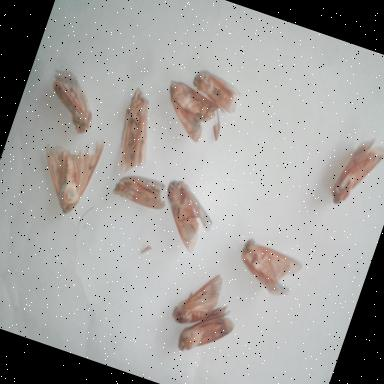abw: (25, 121, 109, 223), (146, 174, 226, 262), (150, 75, 234, 157), (103, 82, 170, 180), (167, 260, 243, 340), (228, 233, 310, 307), (169, 292, 243, 374), (35, 63, 109, 142), (323, 126, 384, 220), (106, 162, 176, 220), (182, 63, 248, 122)
